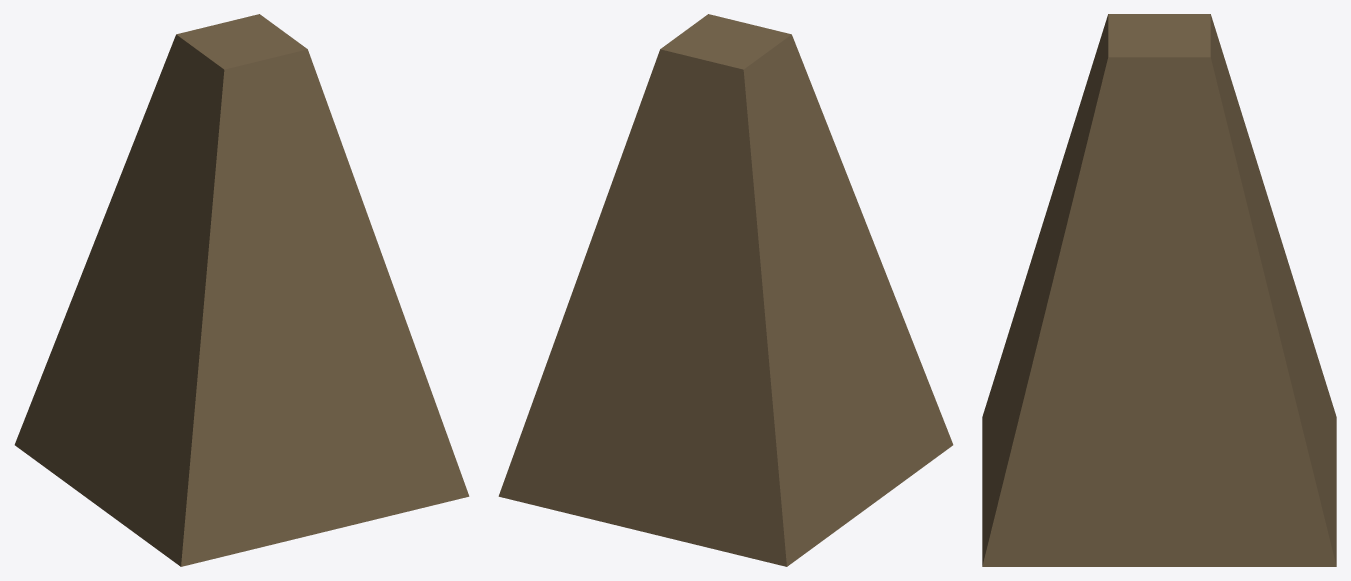
The model's file is pawn_black.fbx.
3 views of the same model, side by side, from view 1: azimuth 30°, elevation 25°; view 2: azimuth 150°, elevation 25°; view 3: azimuth 270°, elevation 25° (orthographic). The views are drawn at different scales.
Parts seen in each view (by area): view 1: Cube.006; view 2: Cube.006; view 3: Cube.006.
Boxes of the visible parts, x1,y1,x2,y2 form: Cube.006: (14, 14, 469, 566); Cube.006: (498, 14, 953, 566); Cube.006: (982, 14, 1336, 566).
Size of the model in its own units: 2.8 by 3.97 by 2.8.
